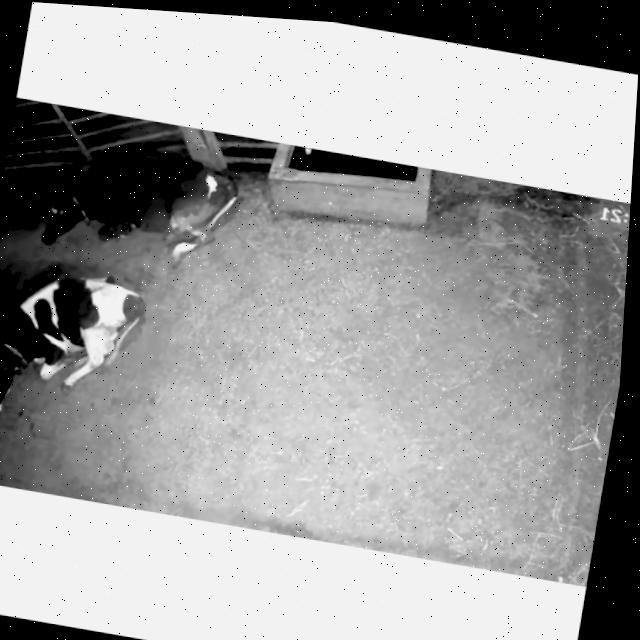lay: (0, 240, 167, 449), (30, 128, 249, 273)
